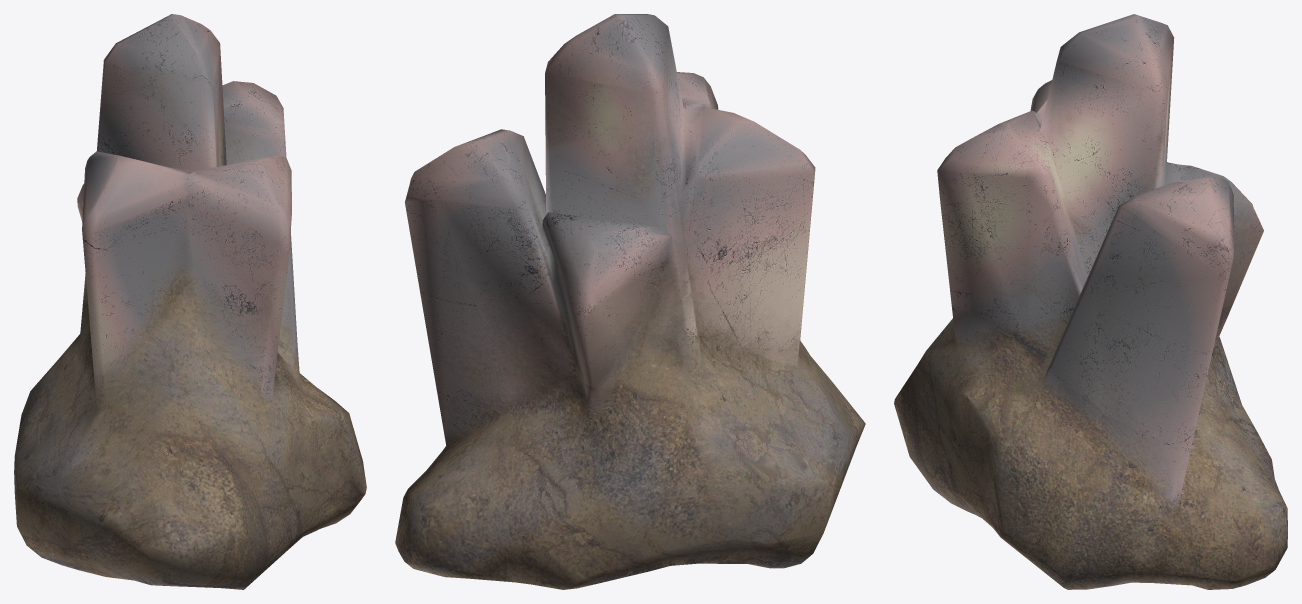
The model's file is SM_Mineral_4.fbx.
3 views of the same model, side by side, from view 1: azimuth 30°, elevation 25°; view 2: azimuth 150°, elevation 25°; view 3: azimuth 270°, elevation 25° (orthographic). The views are drawn at different scales.
Parts seen in each view (by area): view 1: SM_Mineral_4; view 2: SM_Mineral_4; view 3: SM_Mineral_4.
Boxes of the visible parts, left/top/right/bottom form: SM_Mineral_4: left=14, top=14, right=366, bottom=589; SM_Mineral_4: left=395, top=14, right=865, bottom=589; SM_Mineral_4: left=894, top=14, right=1287, bottom=589.
Bounding box in the file's own units: 0.6575 × 0.9959 × 0.6744.
